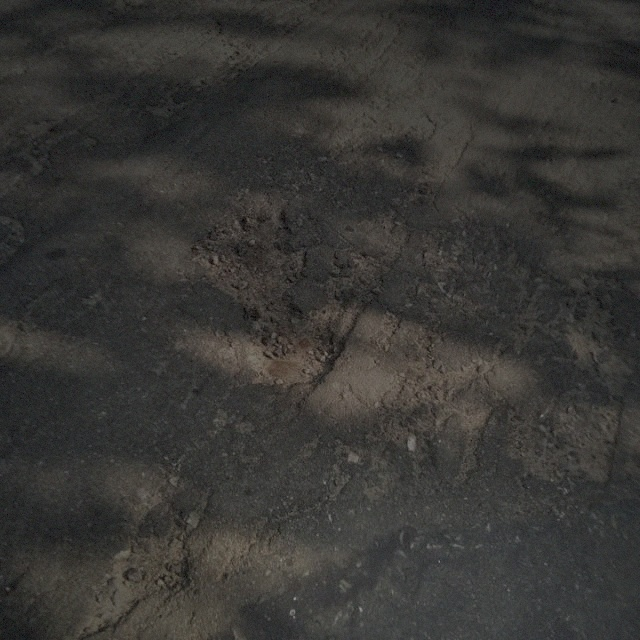pothole: (65, 535, 197, 636), (185, 208, 311, 301), (238, 305, 342, 388)
